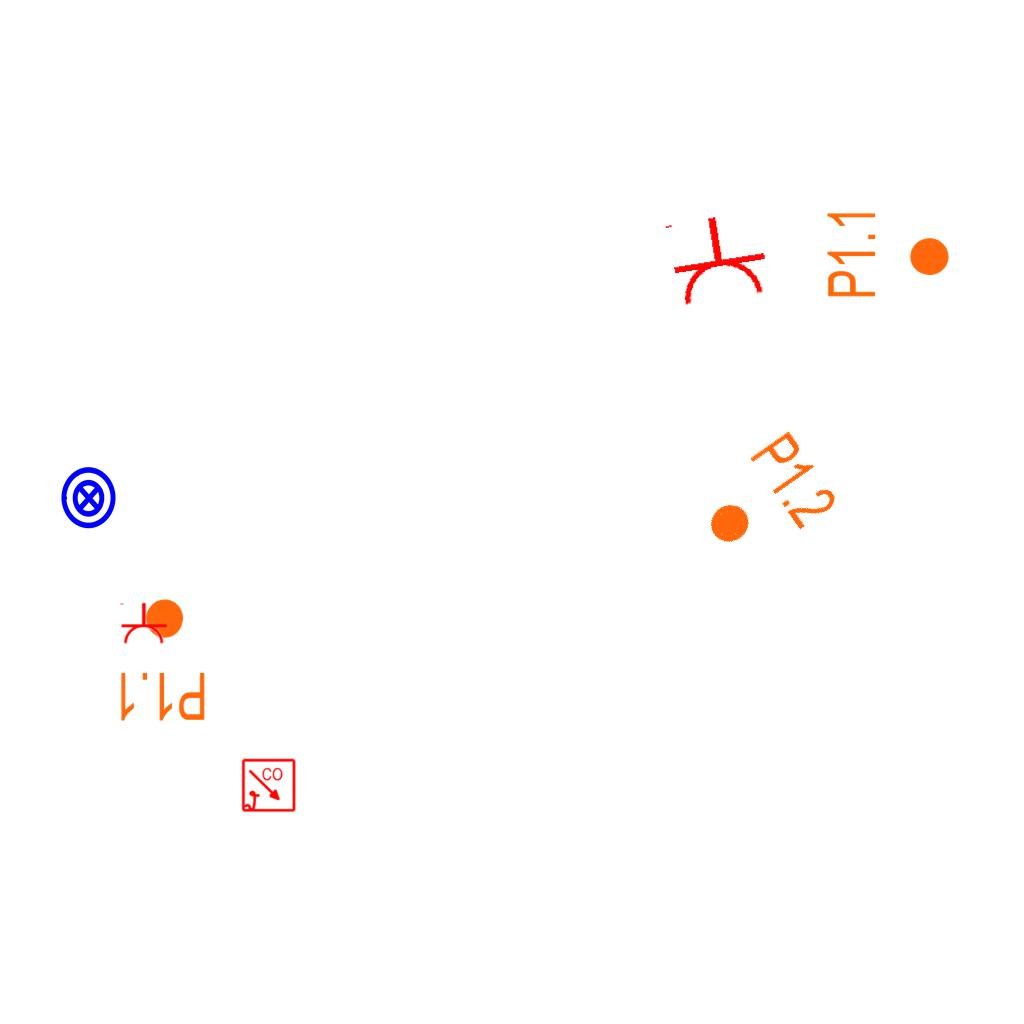Downlight_LED_Einbauleuchten_Flur: (685, 426, 844, 576), (824, 207, 952, 300), (115, 596, 208, 724)
ROA_Rauchmelder_optisch_mit_Signalgeber_(Sockelsirene): (241, 758, 297, 814)
Schukosteckdose_einfach: (660, 208, 773, 310), (118, 602, 168, 645)
Taster_beleuchtet: (56, 465, 122, 531)
